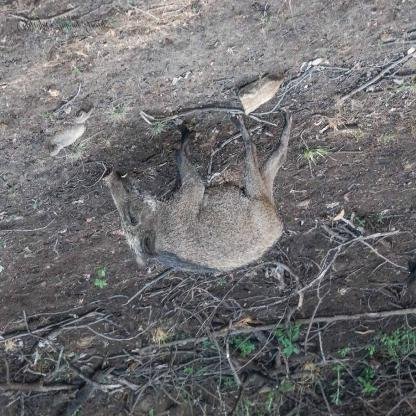boar: (102, 108, 293, 276)
